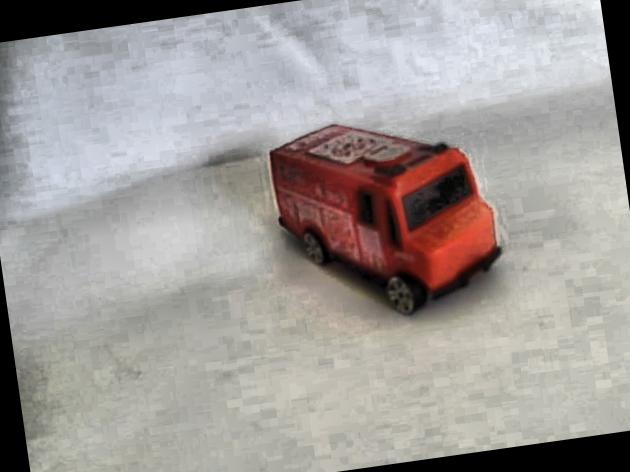fire_truck: (261, 100, 508, 330)
